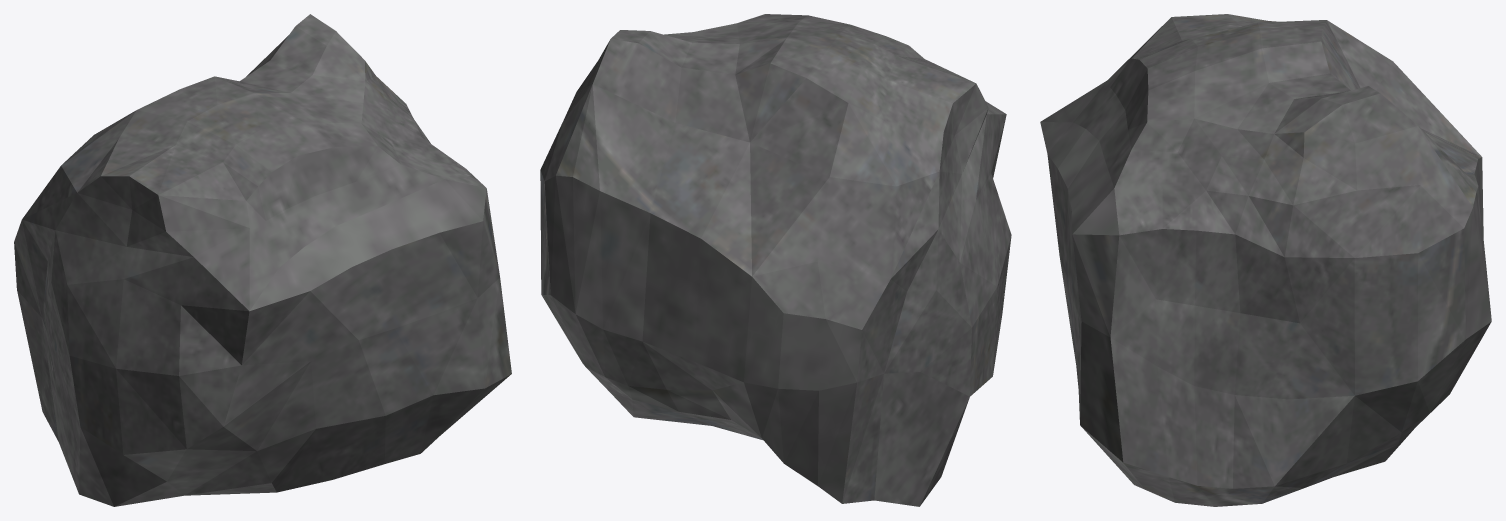
Rendered from Rock05.fbx.
3 views of the same model, side by side, from view 1: azimuth 30°, elevation 25°; view 2: azimuth 150°, elevation 25°; view 3: azimuth 270°, elevation 25° (orthographic). The views are drawn at different scales.
Parts seen in each view (by area): view 1: SM_ENV_NATURE_Cave_Rock_M_05.mo; view 2: SM_ENV_NATURE_Cave_Rock_M_05.mo; view 3: SM_ENV_NATURE_Cave_Rock_M_05.mo.
Boxes of the visible parts, bbox=[...] form: SM_ENV_NATURE_Cave_Rock_M_05.mo: bbox=[14, 14, 511, 506]; SM_ENV_NATURE_Cave_Rock_M_05.mo: bbox=[540, 14, 1011, 506]; SM_ENV_NATURE_Cave_Rock_M_05.mo: bbox=[1040, 14, 1491, 506].
Size of the model in its own units: 110 by 111 by 104.
Materials: 1 (1 with a texture image).
